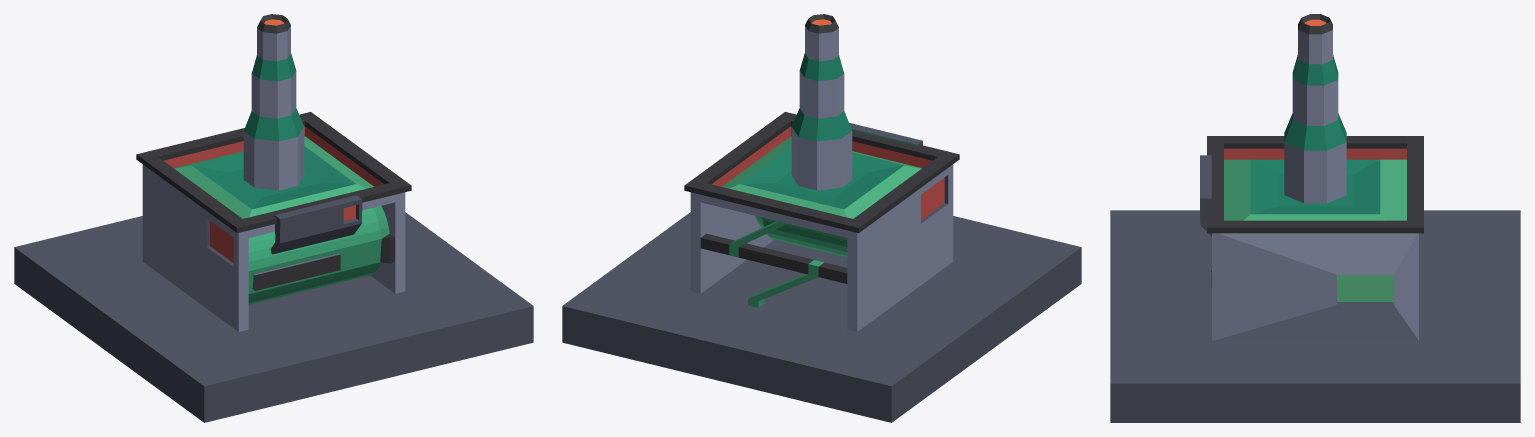
Rendered from smallgenerator.fbx.
3 renders of one model, left to right at view 1: azimuth 30°, elevation 25°; view 2: azimuth 150°, elevation 25°; view 3: azimuth 270°, elevation 25°, orthographic. The views are drawn at different scales.
Parts seen in each view (by area): view 1: Base, Body, GasCanister; view 2: Base, Body, GasCanister; view 3: Base, Body, GasCanister.
Boxes of the visible parts, left/top/right/bottom form: Base: left=14, top=212, right=533, bottom=422; Body: left=136, top=14, right=411, bottom=331; GasCanister: left=248, top=195, right=395, bottom=304; Base: left=562, top=212, right=1081, bottom=422; Body: left=684, top=14, right=959, bottom=331; GasCanister: left=755, top=123, right=922, bottom=257; Base: left=1110, top=210, right=1520, bottom=422; Body: left=1207, top=14, right=1423, bottom=340; GasCanister: left=1200, top=155, right=1211, bottom=287.
Size of what is drawn, in the model's own units: 200 by 200 by 170.
1 material, 1 textured.
